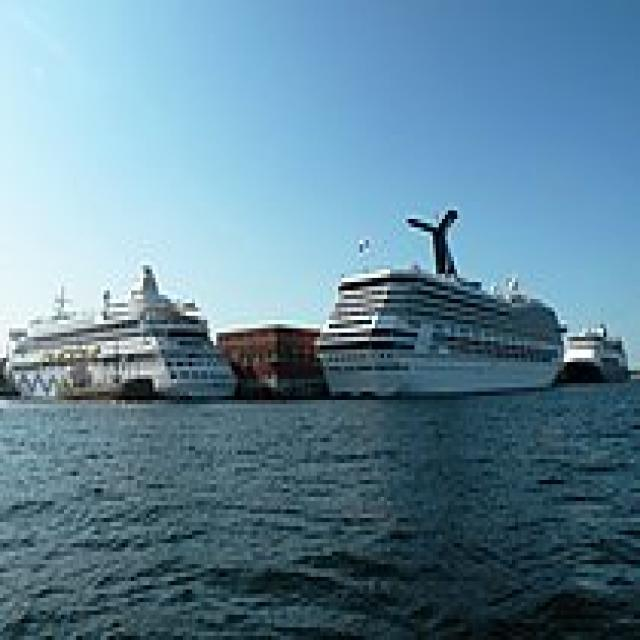Cruise: (311, 202, 564, 396), (0, 257, 235, 400), (558, 316, 628, 379)
